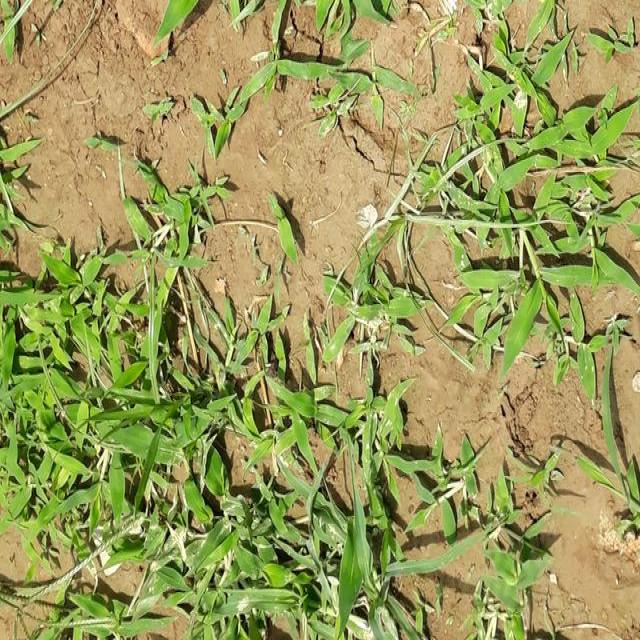weed: (9, 173, 426, 640), (435, 41, 640, 414)
